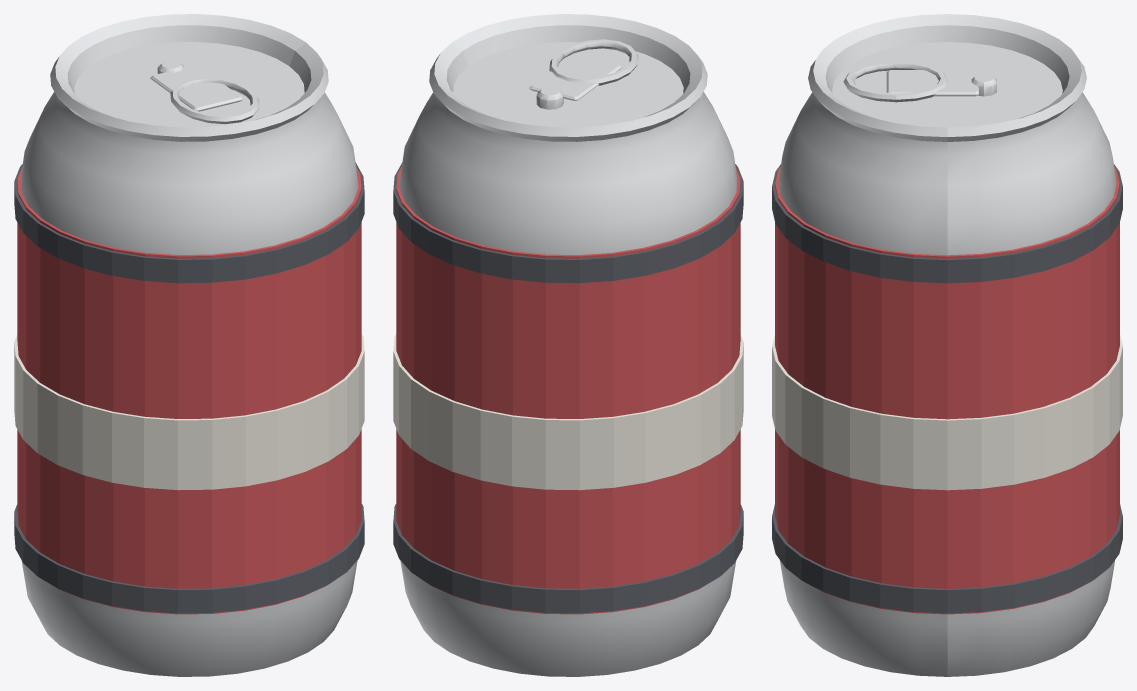
The model's file is drinks_can.glb.
The picture shows the model from 3 angles, left to right: view 1: azimuth 30°, elevation 25°; view 2: azimuth 150°, elevation 25°; view 3: azimuth 270°, elevation 25°; orthographic projection.
Parts seen in each view (by area): view 1: soda-can; view 2: soda-can; view 3: soda-can.
Part boxes in pixels (bbox=[...]): soda-can: bbox=[14, 14, 364, 676]; soda-can: bbox=[393, 14, 743, 676]; soda-can: bbox=[772, 14, 1122, 676].
Size of the model in its own units: 0.0684 by 0.1168 by 0.0684.
